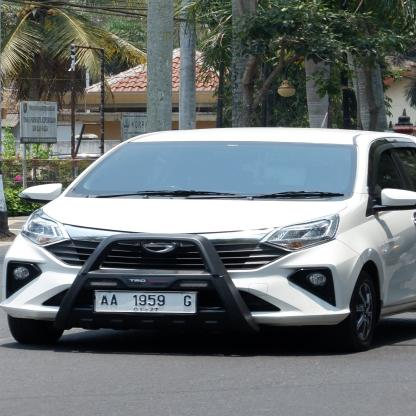Plat-Nomor: (88, 287, 204, 320)
